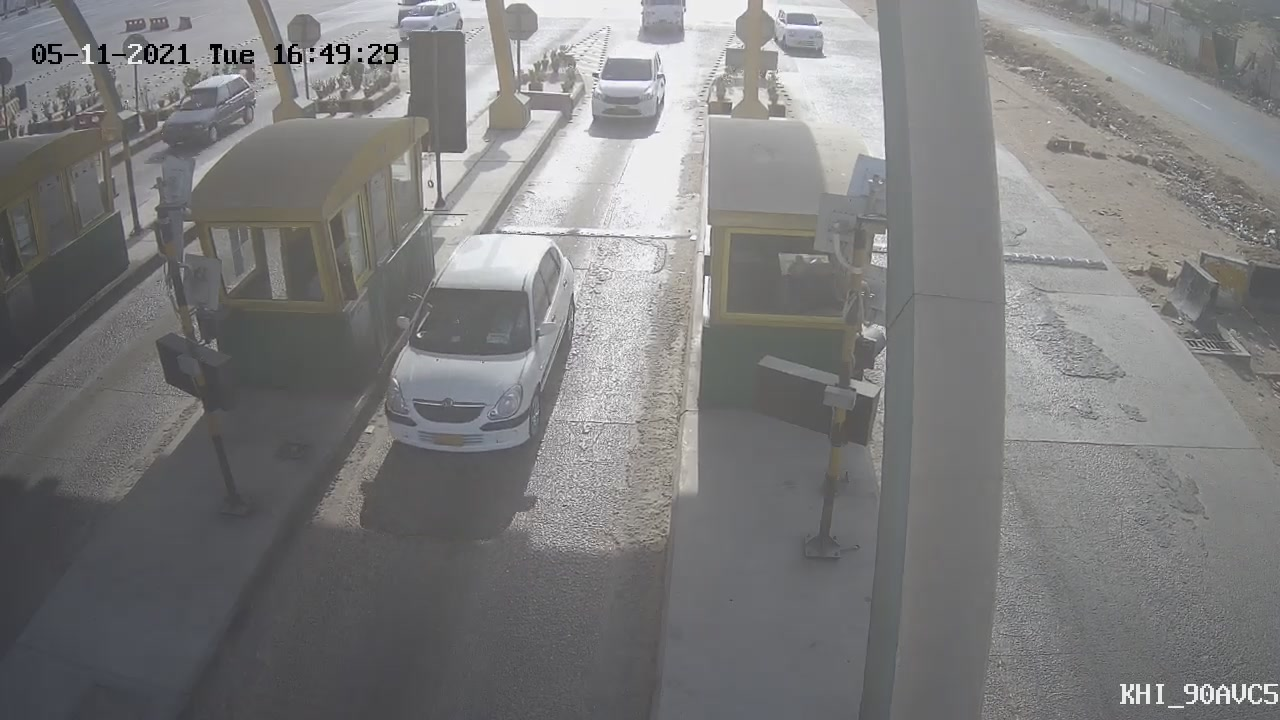F1: (356, 213, 595, 474), (577, 33, 683, 135)
